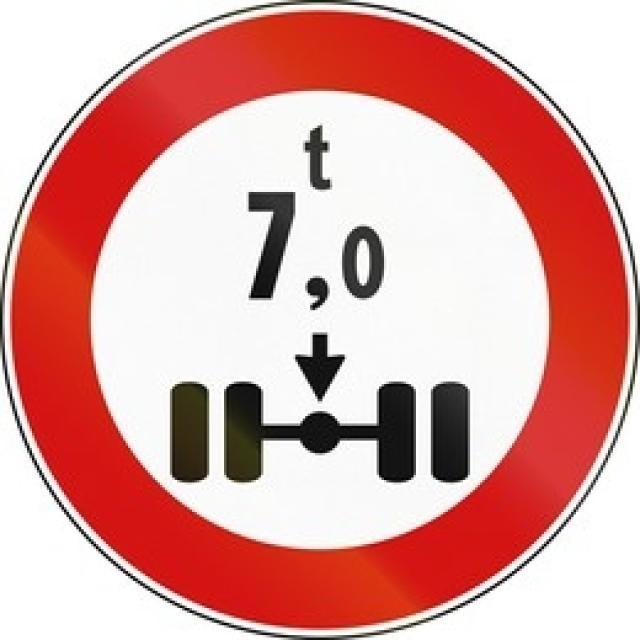axle load limit: (13, 15, 629, 629)
